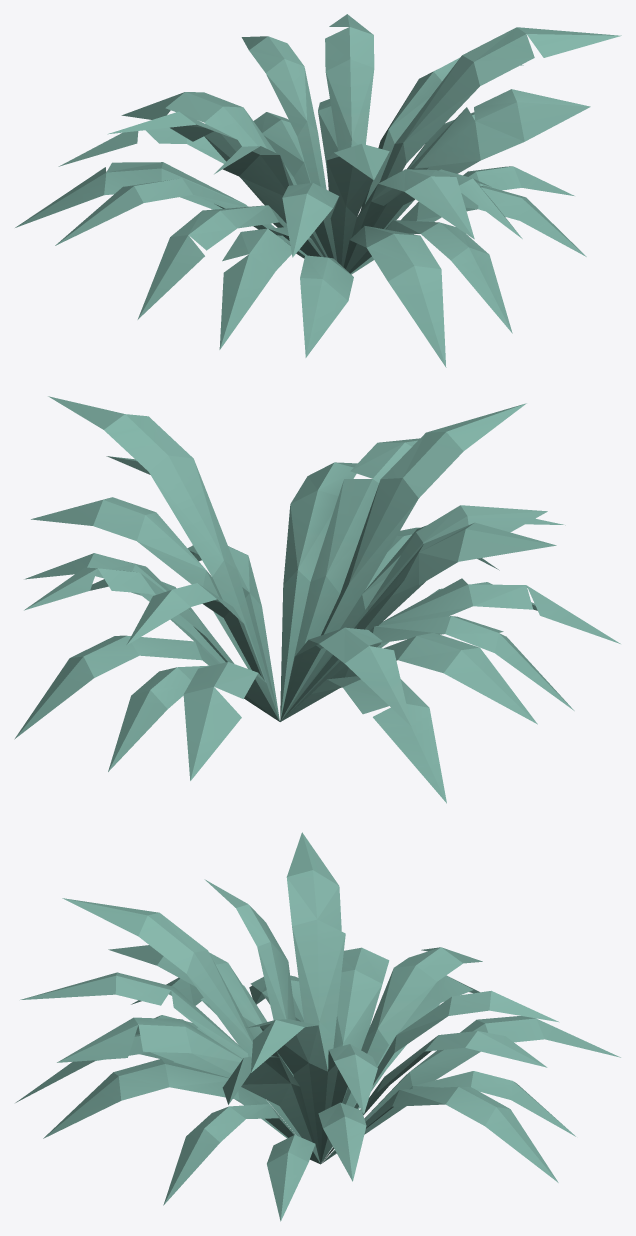
File: bush_fern.glb
3 views of the same model, one above another, from view 1: azimuth 30°, elevation 25°; view 2: azimuth 150°, elevation 25°; view 3: azimuth 270°, elevation 25° (orthographic). The views are drawn at different scales.
Parts seen in each view (by area): view 1: bush_fern; view 2: bush_fern; view 3: bush_fern.
Boxes of the visible parts, bbox=[...] form: bush_fern: bbox=[15, 14, 621, 367]; bush_fern: bbox=[14, 396, 620, 803]; bush_fern: bbox=[15, 832, 620, 1221].
Size of the model in its own units: 1.42 by 0.6 by 1.47.
Materials: 1 (1 with a texture image).
